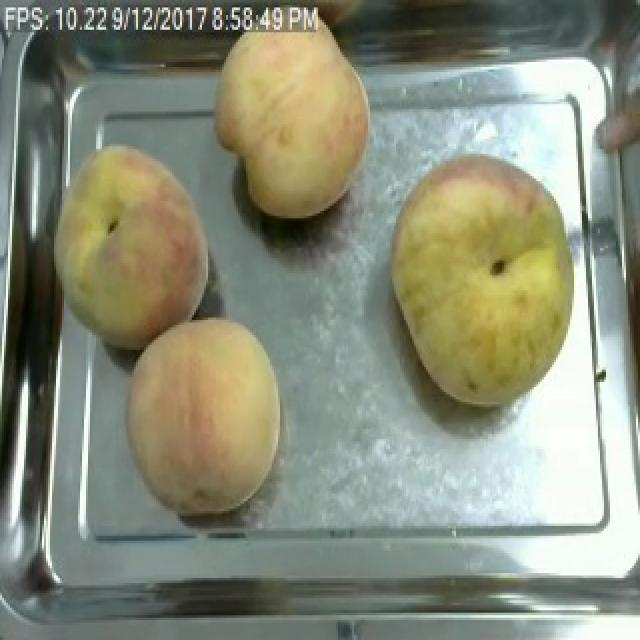Fruit: (380, 146, 590, 417), (36, 132, 222, 360), (206, 5, 384, 226), (118, 305, 290, 526)
